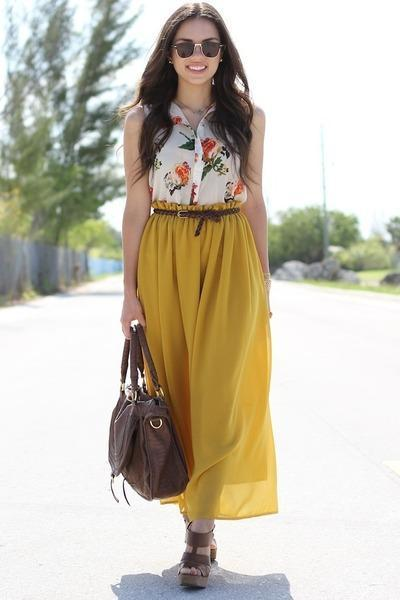bag: (108, 324, 193, 504)
shirt: (149, 100, 238, 203)
shoe: (180, 540, 209, 592)
skirt: (136, 188, 277, 519)
sunglass: (143, 358, 153, 395)
